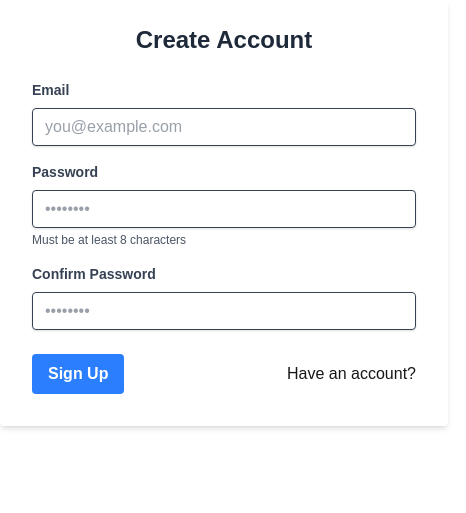
it: SignUpForm › Form Validation › shows error when passwords do not match
Type "test@example.com" into the field labelled "Email".
click(224, 127); type("test@example.com")  # box [32,108,416,146]
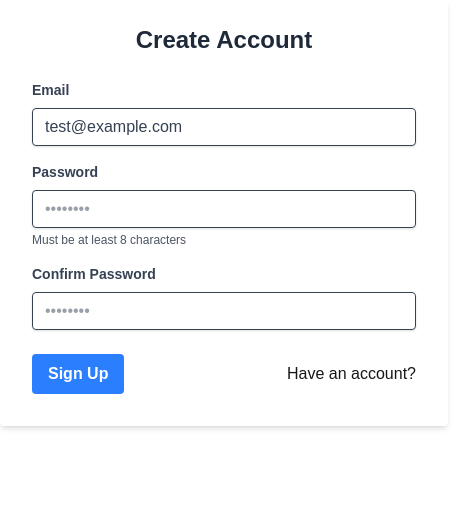
Type "password123" into the password field labelled "Password".
click(224, 209); type("password123")  # box [32,190,416,228]
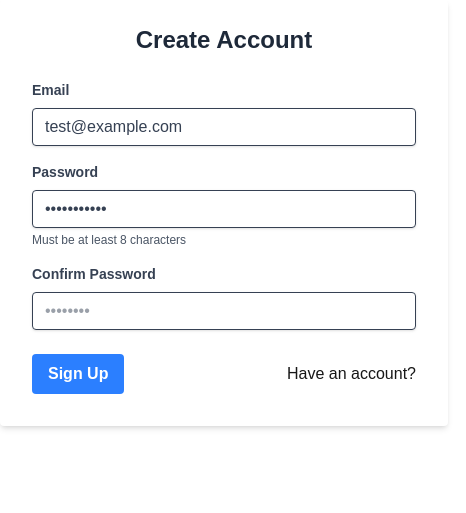
Type "password456" into the password field labelled "Confirm Password".
click(224, 311); type("password456")  # box [32,292,416,330]
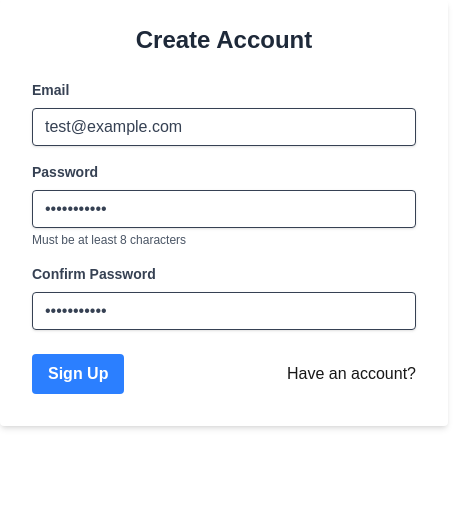
Click the button "Sign Up".
click(78, 374)  # box [32,354,124,394]
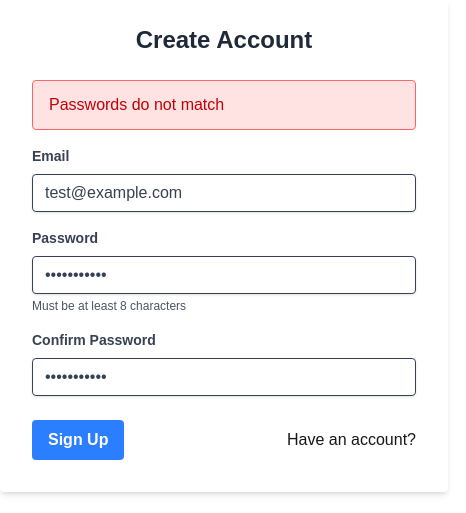
Expected: the text "Passwords do not match" is shown, [32,80,416,130]
